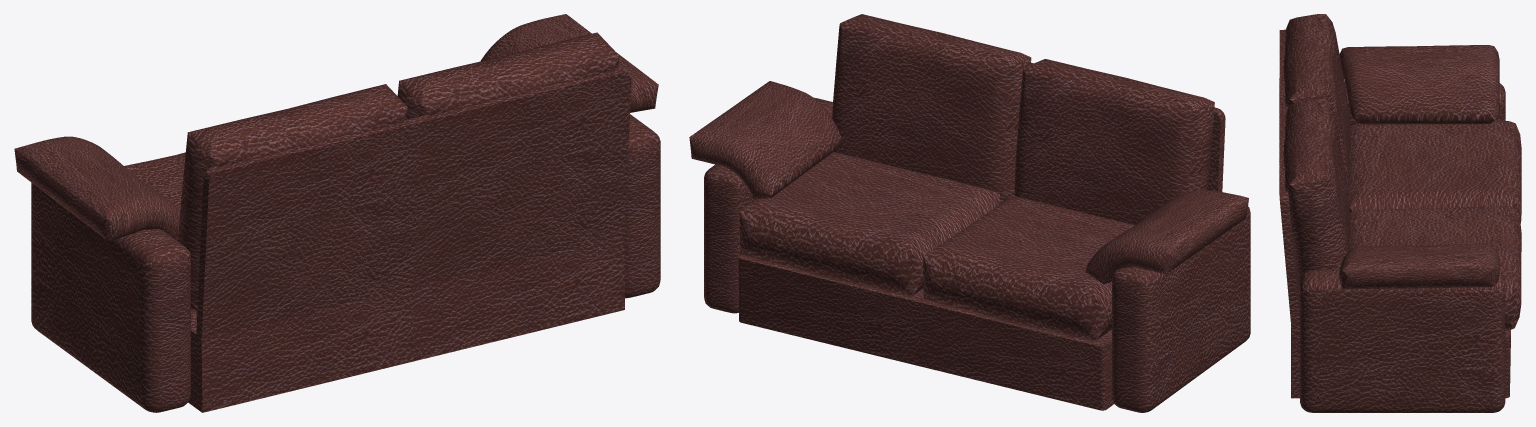
Rendered from Sofa.obj.
The picture shows the model from 3 angles, left to right: view 1: azimuth 30°, elevation 25°; view 2: azimuth 150°, elevation 25°; view 3: azimuth 270°, elevation 25°; orthographic projection. The views are drawn at different scales.
Parts seen in each view (by area): view 1: Component_3_001, Group_10_001, Group_1_001, Group_2_001, Group_1_003, Group_10_002, Group_2_003, Group_3_001; view 2: Group_1_003, Component_3_001, Group_1_001, Group_3_002, Group_3_001, Group_10_001, Group_2_003, Group_2_001, Group_10_002; view 3: Group_10_002, Group_3_001, Group_2_001, Group_1_003, Group_3_002, Group_2_003, Group_1_001, Component_3_001, Group_10_001.
Part boxes in pixels (x1,y1,x2,y2): Component_3_001: [188, 68, 631, 412]; Group_10_001: [31, 182, 190, 412]; Group_1_001: [178, 84, 407, 312]; Group_2_001: [14, 136, 180, 241]; Group_1_003: [397, 32, 619, 119]; Group_10_002: [624, 114, 660, 298]; Group_2_003: [480, 14, 658, 112]; Group_3_001: [124, 152, 185, 209]; Group_1_003: [832, 14, 1031, 203]; Component_3_001: [738, 62, 1225, 410]; Group_1_001: [1014, 59, 1214, 225]; Group_3_002: [739, 152, 1000, 297]; Group_3_001: [923, 195, 1134, 342]; Group_10_001: [1112, 206, 1250, 412]; Group_2_003: [689, 81, 843, 199]; Group_2_001: [1085, 189, 1248, 284]; Group_10_002: [704, 97, 832, 313]; Group_10_002: [1300, 270, 1505, 412]; Group_3_001: [1349, 121, 1521, 222]; Group_2_001: [1339, 45, 1499, 124]; Group_1_003: [1283, 99, 1349, 304]; Group_3_002: [1349, 206, 1521, 330]; Group_2_003: [1339, 244, 1499, 289]; Group_1_001: [1283, 14, 1349, 202]; Component_3_001: [1279, 29, 1510, 398]; Group_10_001: [1344, 81, 1505, 127].
Bounding box in the file's own units: 105 × 47.93 × 47.82.
